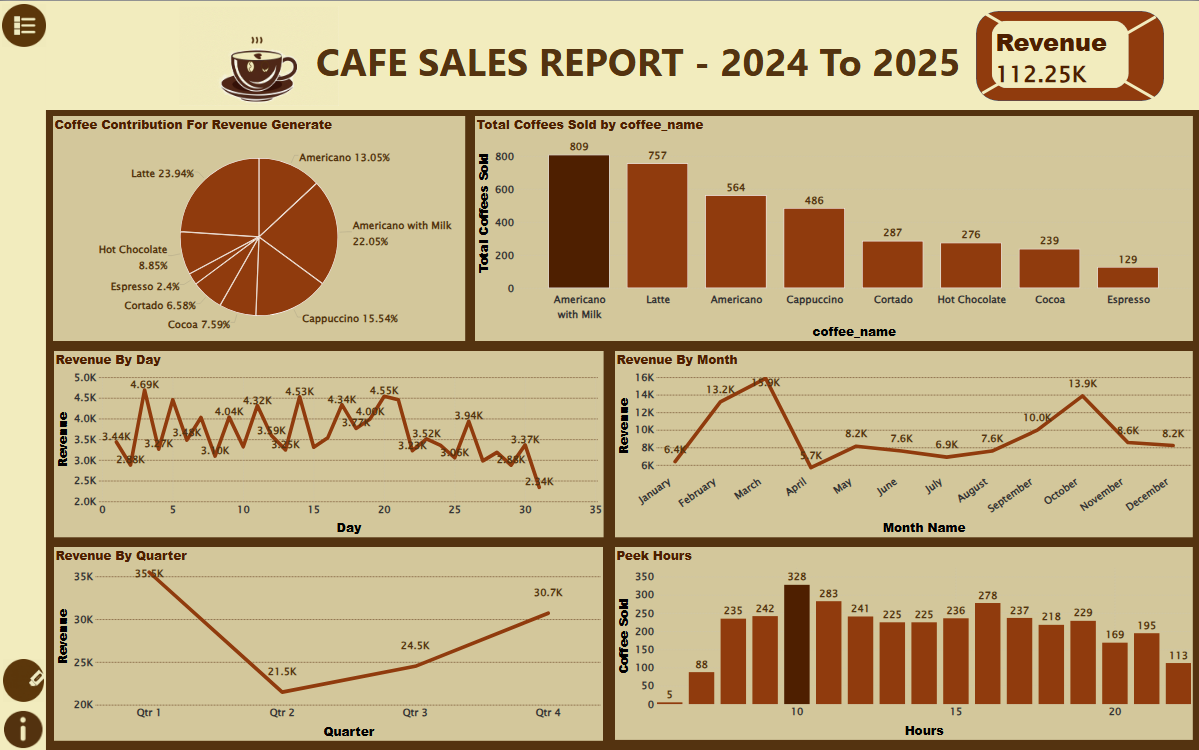

Layout of this report page (visuals, bound fields, positions):
{"tool":"powerbi","page":{"name":"Page 1","canvas":[4000,2500],"ordinal":0},"visuals":[{"type":"shape","box":[0,0,4000,363.3],"z":0},{"type":"shape","box":[3256.7,33.3,626.7,300],"z":0,"group":"g1"},{"type":"actionButton","box":[600,16.7,533.3,333.3],"z":1000},{"type":"cardVisual","fields":{"Data":["Coffe_sales.Revenue"]},"box":[3303.4,60.4,468.8,236.2],"z":1000,"group":"g1"},{"type":"group","id":"g1","title":"Revenue Card","box":[3256.7,0,626.7,380],"z":2000},{"type":"shape","box":[3728.4,203.3,133.3,176.7],"z":2000,"group":"g1"},{"type":"shape","box":[3728.4,0,133.3,176.7],"z":3000,"group":"g1"},{"type":"textbox","box":[380,106.7,3503.3,213.3],"z":3000},{"type":"shape","box":[0,153.8,156.6,2346.2],"z":4000},{"type":"shape","box":[3271.7,233.3,63.3,116.7],"z":4000,"group":"g1"},{"type":"shape","box":[3282.5,0,63.8,116.2],"z":5000,"group":"g1"},{"type":"actionButton","box":[5.5,2357.1,148.4,142.9],"z":5000},{"type":"actionButton","box":[13.7,2192.3,137.4,142.9],"z":6000},{"type":"actionButton","box":[10,10,146.7,143.3],"z":7000},{"type":"pieChart","title":"Coffee Contribution For Revenue Generate","fields":{"Y":["Coffe_sales.Revenue"],"Series":["Coffe_sales.coffee_name"]},"box":[181.3,384.6,1373.6,750],"z":8000},{"type":"columnChart","fields":{"Category":["Coffe_sales.coffee_name"],"Y":["Coffe_sales.Total Coffees Sold"]},"box":[1585.2,384.6,2392.9,750],"z":9000},{"type":"columnChart","title":"Peek Hours","fields":{"Category":["Coffe_sales.Hours"],"Y":["Coffe_sales.Total Coffees Sold"]},"box":[2052.2,1818.7,1925.8,642.9],"z":10000},{"type":"lineChart","title":"Revenue By Day","fields":{"Category":["Coffe_sales.Day"],"Y":["Coffe_sales.Revenue"]},"box":[184.1,1167.6,1832.4,620.9],"z":11000},{"type":"lineChart","title":"Revenue By Month","fields":{"Y":["Coffe_sales.Revenue"],"Category":["Coffe_sales.Month Name"]},"box":[2052.2,1167.6,1925.8,620.9],"z":12000},{"type":"lineChart","title":"Revenue By Quarter","fields":{"Category":["Coffe_sales.Date.Variation.Date Hierarchy.Quarter"],"Y":["Coffe_sales.Revenue"]},"box":[184.1,1818.7,1829.7,645.6],"z":13000}]}

Visuals, with their boxes in screenshot pixels (x1, y1, x2, y2), scaled from the page's 4000x2500 canvas onto the 1199x750 screenshot:
shape: 0 0 1198 109
shape: 976 10 1164 100
actionButton: 180 5 340 105
cardVisual - Coffe_sales.Revenue: 990 18 1131 89
"Revenue Card" group: 976 0 1164 114
shape: 1118 61 1158 114
shape: 1118 0 1158 53
textbox: 114 32 1164 96
shape: 0 46 47 749
shape: 981 70 1000 105
shape: 984 0 1003 35
actionButton: 2 707 46 749
actionButton: 4 658 45 701
actionButton: 3 3 47 46
"Coffee Contribution For Revenue Generate" pieChart: 54 115 466 340
columnChart - Coffe_sales.coffee_name x Coffe_sales.Total Coffees Sold: 475 115 1192 340
"Peek Hours" columnChart: 615 546 1192 738
"Revenue By Day" lineChart: 55 350 604 537
"Revenue By Month" lineChart: 615 350 1192 537
"Revenue By Quarter" lineChart: 55 546 604 739
